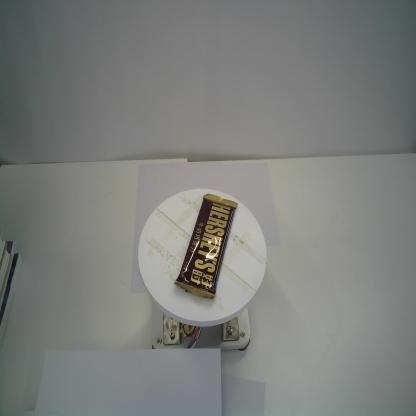Chocolate: (173, 193, 238, 300)
